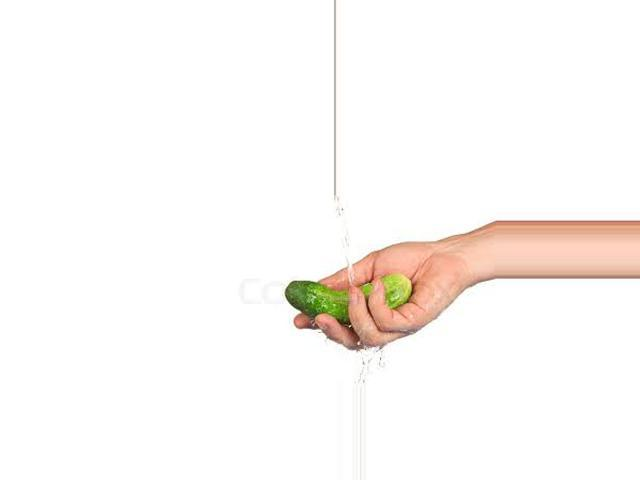cucumber: (284, 275, 411, 321)
